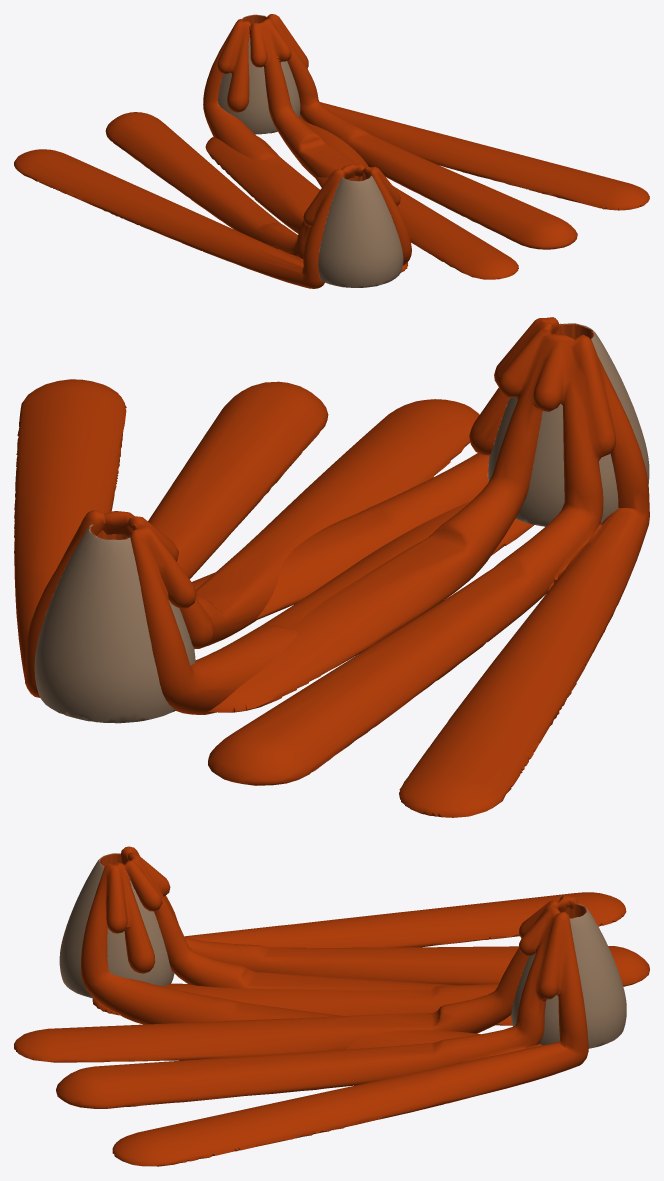
The model's file is LavaTwins.fbx.
3 views of the same model, one above another, from view 1: azimuth 30°, elevation 25°; view 2: azimuth 150°, elevation 25°; view 3: azimuth 270°, elevation 25° (orthographic). The views are drawn at different scales.
Parts seen in each view (by area): view 1: Lava, Lava_2, Mountain_2, Mountain; view 2: Lava_2, Lava, Mountain, Mountain_2; view 3: Lava, Lava_2, Mountain, Mountain_2.
Boxes of the visible parts, x1,y1,x2,y2 form: Lava: (203, 14, 649, 279); Lava_2: (14, 112, 411, 288); Mountain_2: (318, 175, 403, 287); Mountain: (218, 14, 300, 134); Lava_2: (192, 317, 649, 817); Lava: (14, 379, 534, 714); Mountain: (34, 524, 195, 723); Mountain_2: (488, 323, 649, 526); Lava: (14, 894, 588, 1166); Lava_2: (81, 846, 649, 1049); Mountain: (511, 903, 626, 1048); Mountain_2: (59, 853, 174, 998).
Size of the model in its own units: 43.1 by 10.2 by 42.79.
Materials: 4 (4 with a texture image).
